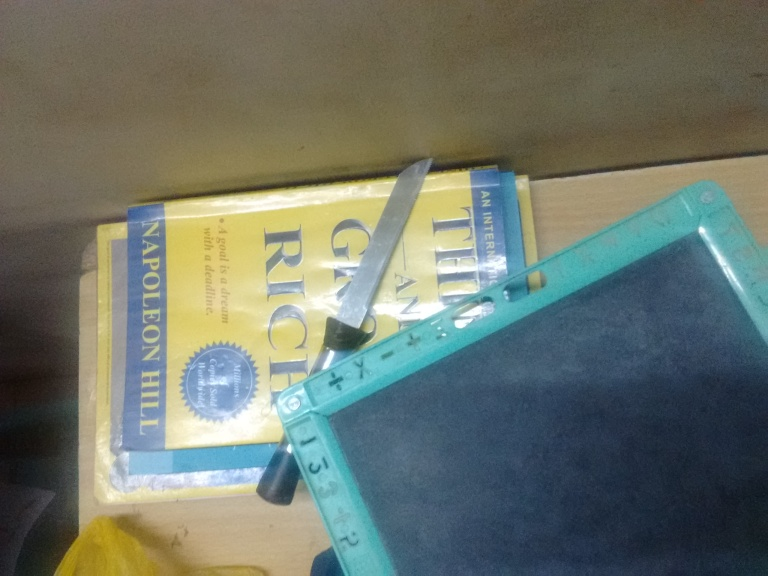knife: (259, 159, 435, 509)
